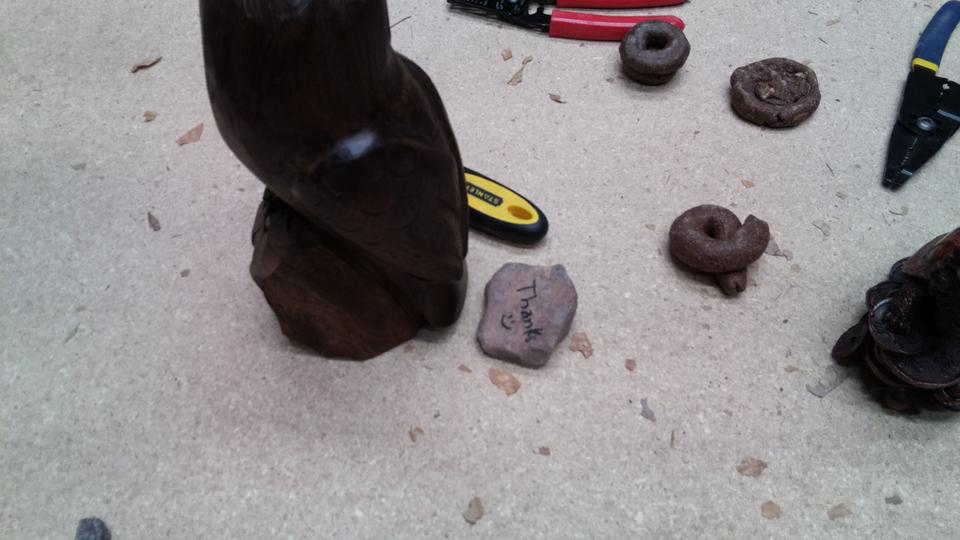poop: (666, 199, 771, 301), (725, 54, 823, 133), (617, 19, 691, 89)
